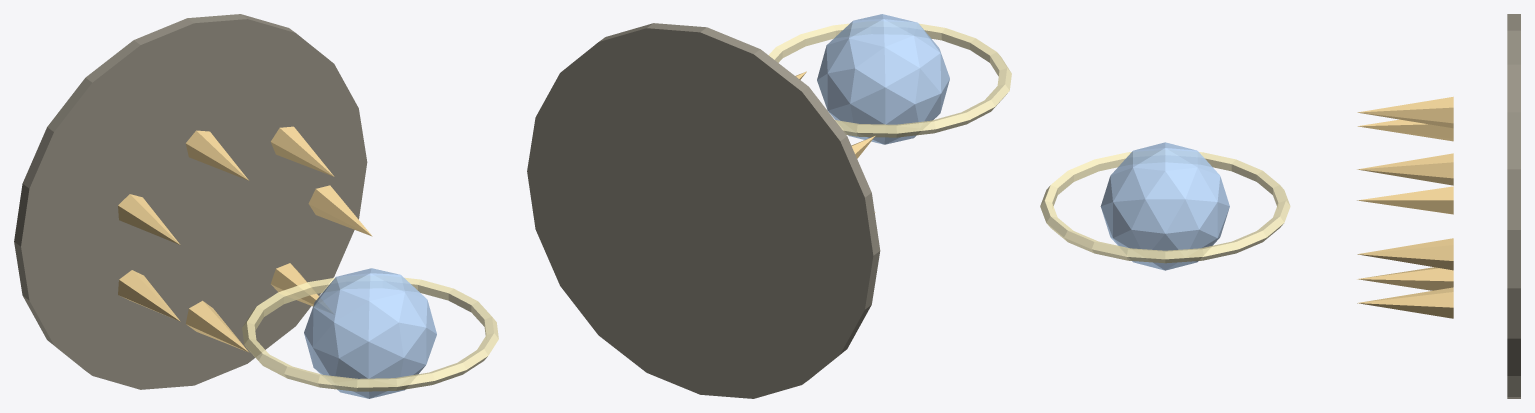
The model's file is 06_weather_terrain_nature_module.glb.
3 renders of one model, left to right at view 1: azimuth 30°, elevation 25°; view 2: azimuth 150°, elevation 25°; view 3: azimuth 270°, elevation 25°, orthographic. The views are drawn at different scales.
Visible parts, largest first — view 1: terrain_patch, sun_color_preview, weather_halo, nature_or_weather_element_2, nature_or_weather_element_1, nature_or_weather_element_0, nature_or_weather_element_3, nature_or_weather_element_5, nature_or_weather_element_4, nature_or_weather_element_6; view 2: terrain_patch, sun_color_preview, weather_halo; view 3: sun_color_preview, weather_halo, terrain_patch, nature_or_weather_element_0, nature_or_weather_element_1, nature_or_weather_element_2, nature_or_weather_element_6, nature_or_weather_element_4, nature_or_weather_element_5, nature_or_weather_element_3.
Boxes of the visible parts, <box> form: terrain_patch: <box>14,14,367,389</box>; sun_color_preview: <box>304,268,436,398</box>; weather_halo: <box>242,277,498,391</box>; nature_or_weather_element_2: <box>185,130,248,180</box>; nature_or_weather_element_1: <box>271,126,334,176</box>; nature_or_weather_element_0: <box>308,185,372,236</box>; nature_or_weather_element_3: <box>118,194,180,244</box>; nature_or_weather_element_5: <box>185,300,248,352</box>; nature_or_weather_element_4: <box>118,270,180,321</box>; nature_or_weather_element_6: <box>271,263,319,306</box>; terrain_patch: <box>527,23,880,398</box>; sun_color_preview: <box>817,14,949,144</box>; weather_halo: <box>768,23,1011,137</box>; sun_color_preview: <box>1100,142,1229,270</box>; weather_halo: <box>1040,152,1290,263</box>; terrain_patch: <box>1507,14,1520,398</box>; nature_or_weather_element_0: <box>1357,238,1453,270</box>; nature_or_weather_element_1: <box>1357,153,1453,185</box>; nature_or_weather_element_2: <box>1357,96,1453,128</box>; nature_or_weather_element_6: <box>1357,287,1453,318</box>; nature_or_weather_element_4: <box>1357,186,1453,214</box>; nature_or_weather_element_5: <box>1357,267,1453,290</box>; nature_or_weather_element_3: <box>1357,119,1453,141</box>.
Bounding box in the file's own units: 1.44 × 1.44 × 1.78.
